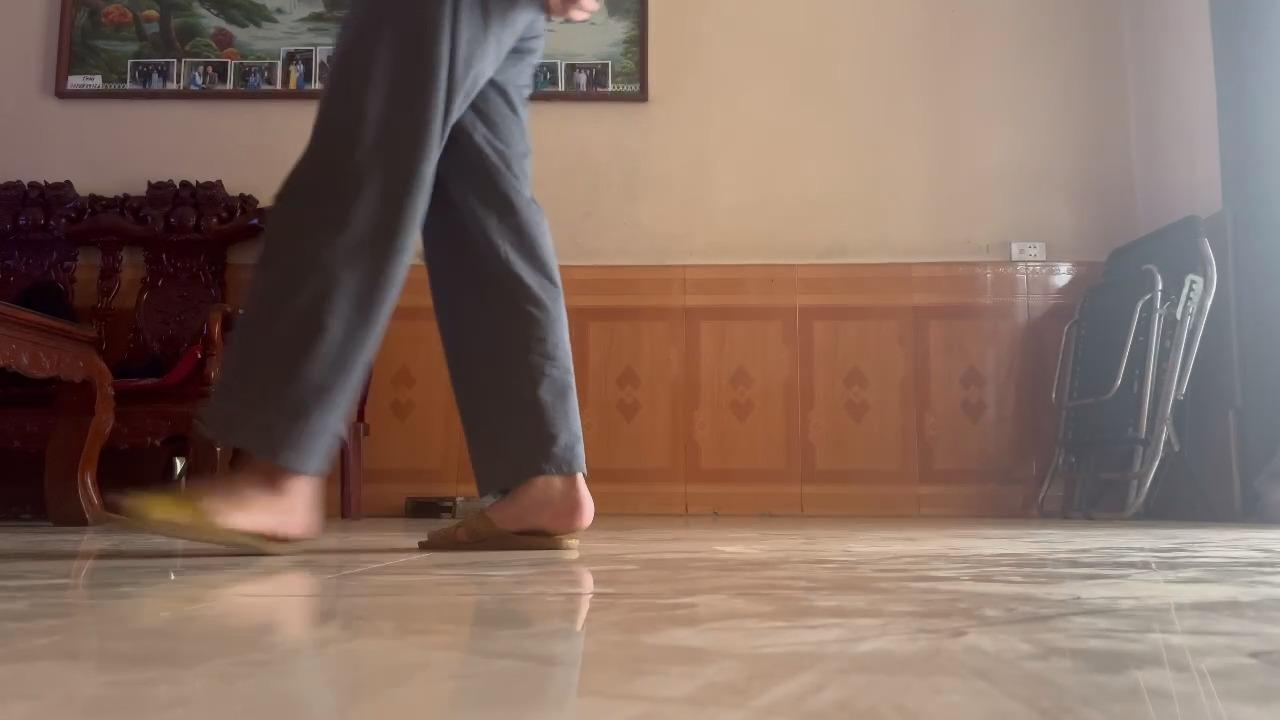no-boot: (88, 476, 337, 559), (412, 483, 603, 560)
